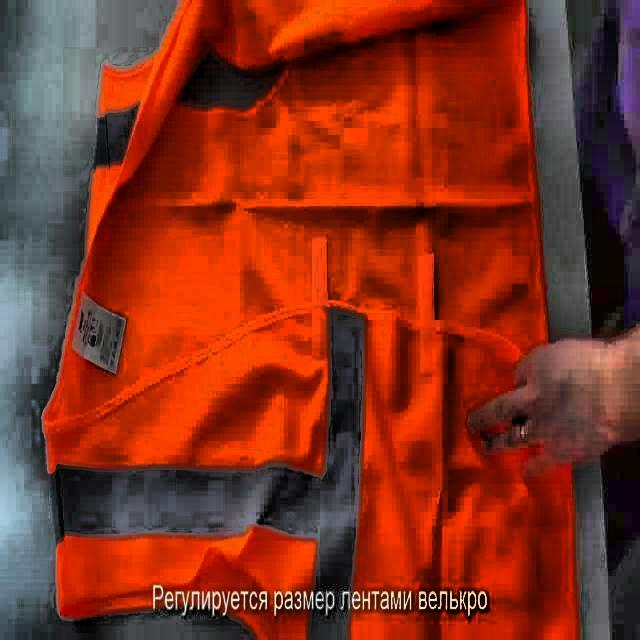safety_jacket: (41, 0, 578, 640)
